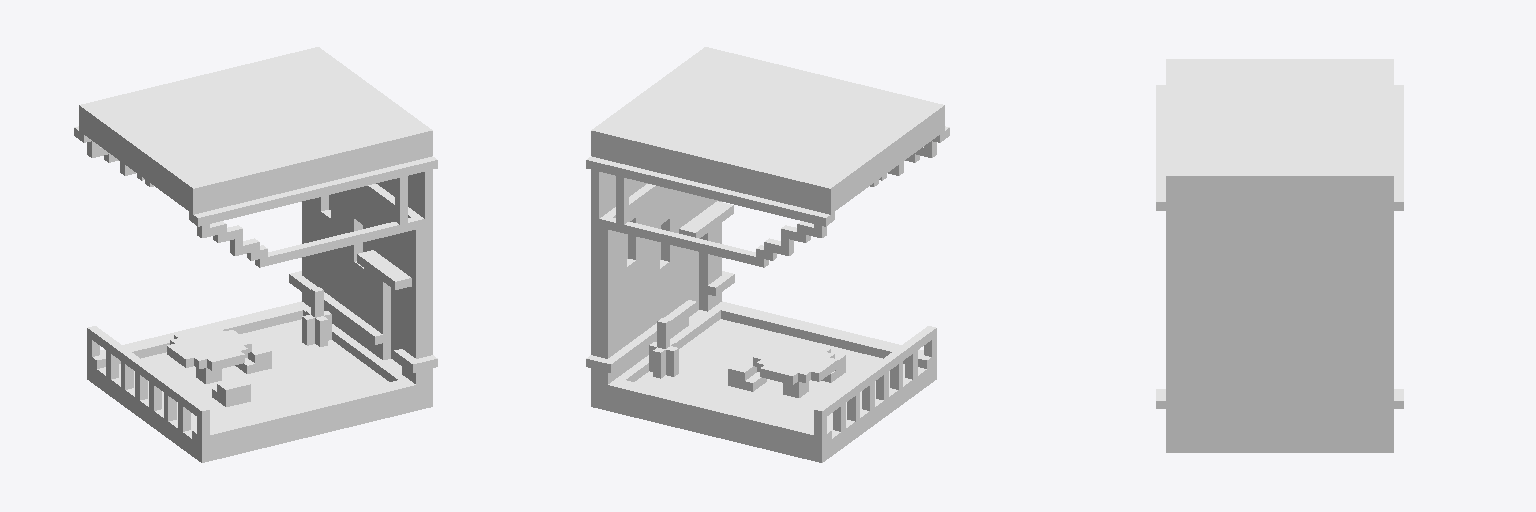
The model's file is tile_3_right.obj.
3 views of the same model, side by side, from view 1: azimuth 30°, elevation 25°; view 2: azimuth 150°, elevation 25°; view 3: azimuth 270°, elevation 25° (orthographic).
Visible parts, largest first — view 1: object 1; view 2: object 1; view 3: object 1.
Boxes of the visible parts, x1,y1,x2,y2 form: object 1: [74, 47, 437, 462]; object 1: [586, 47, 949, 462]; object 1: [1156, 59, 1403, 452].
Size of the model in its own units: 2.9 by 3.2 by 2.6.